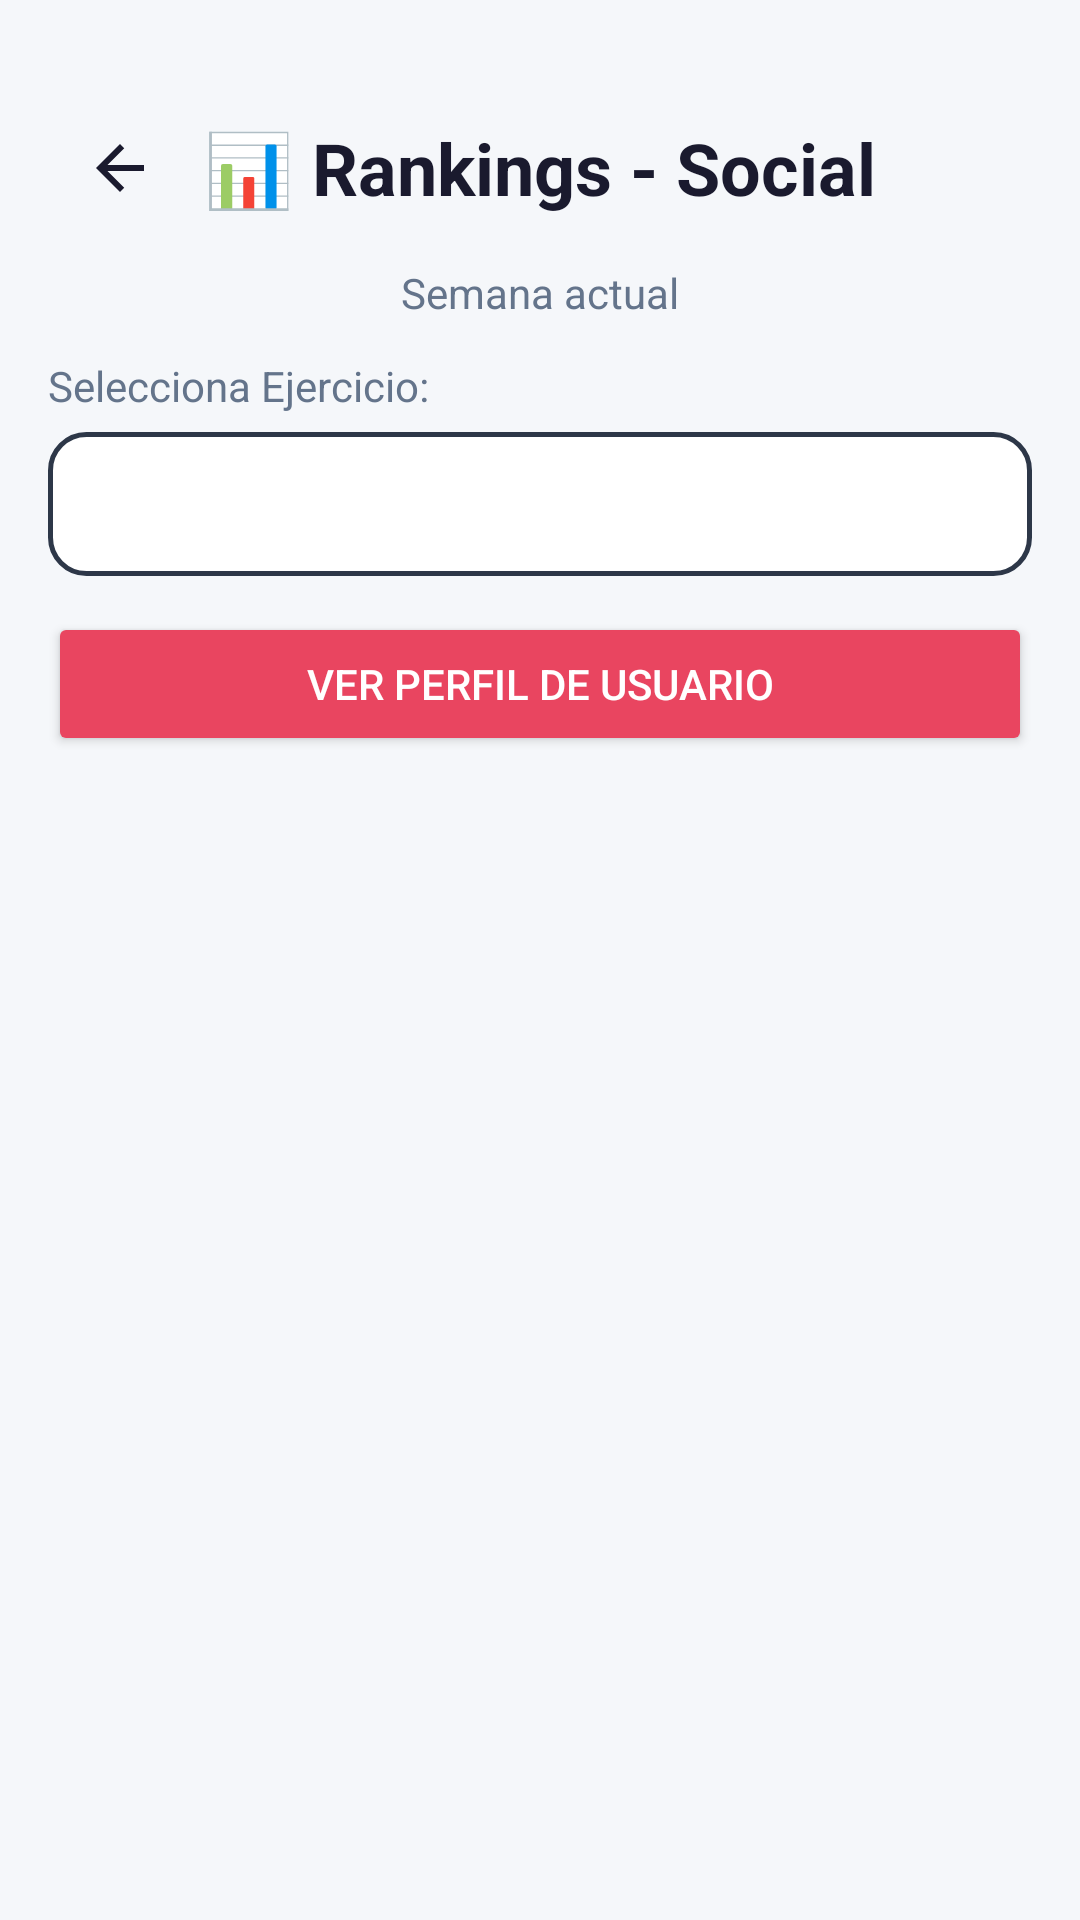

Where to tap for icons on this 1080×1920 app screen, as [x,y]:
flecha atras: [120,168]
